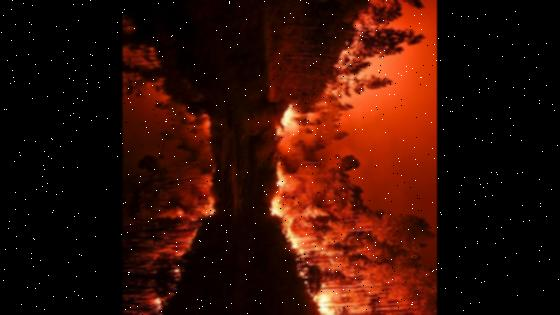fire: (261, 101, 370, 315)
